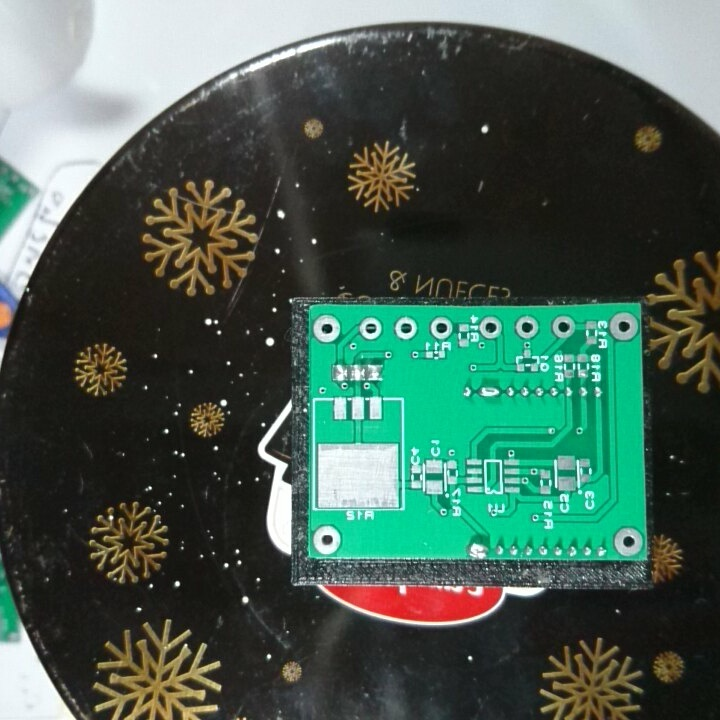F: (608, 310, 641, 344), (311, 312, 346, 344), (612, 524, 644, 558), (311, 524, 343, 556), (390, 315, 419, 342), (427, 315, 455, 342), (357, 316, 384, 343), (551, 315, 577, 340), (514, 315, 541, 339), (477, 315, 502, 340)
P: (465, 540, 490, 560), (477, 383, 503, 402)
